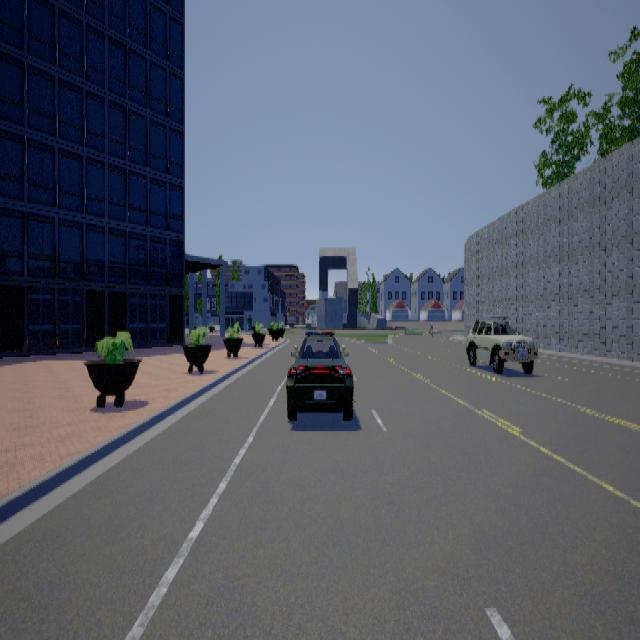vehicle: (287, 330, 355, 419), (467, 315, 539, 372)
